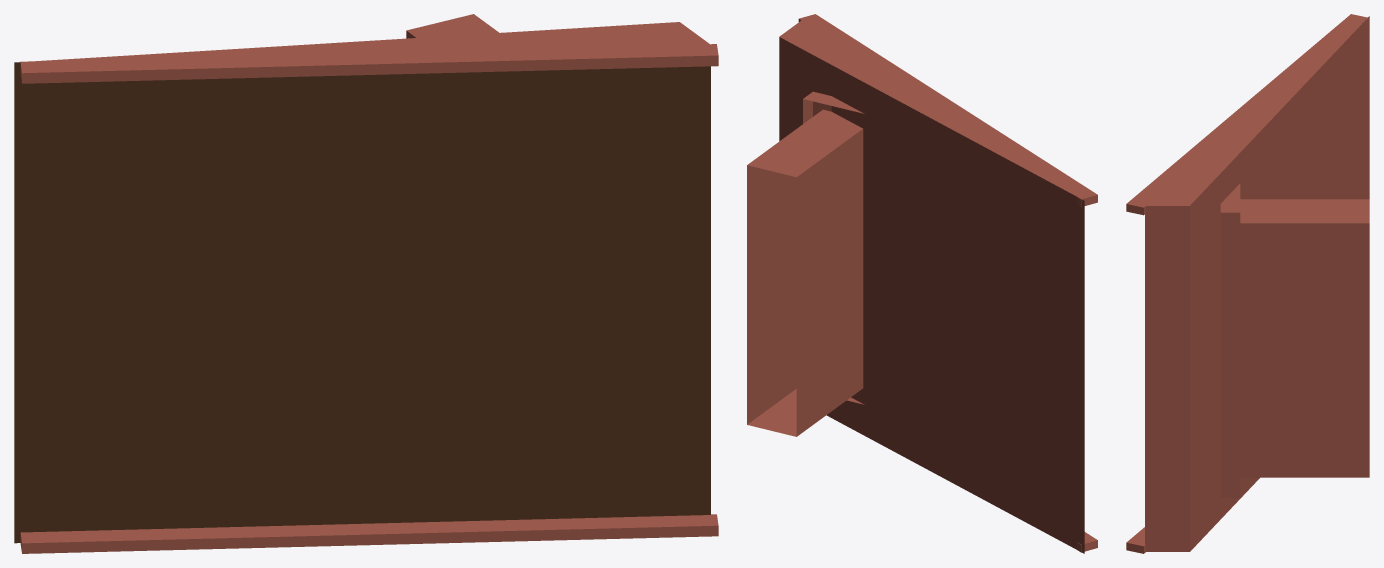
The model's file is ramp.glb.
The picture shows the model from 3 angles, left to right: view 1: azimuth 30°, elevation 25°; view 2: azimuth 150°, elevation 25°; view 3: azimuth 270°, elevation 25°; orthographic projection. The views are drawn at different scales.
Visible parts, largest first — view 1: bridge_04_ramp; view 2: bridge_04_ramp; view 3: bridge_04_ramp.
Part boxes in pixels (x1,y1,x2,y2): bridge_04_ramp: (14,14,718,553); bridge_04_ramp: (747,14,1097,553); bridge_04_ramp: (1126,14,1369,553).
Bounding box in the file's own units: 16.31 × 13.6 × 8.66.
